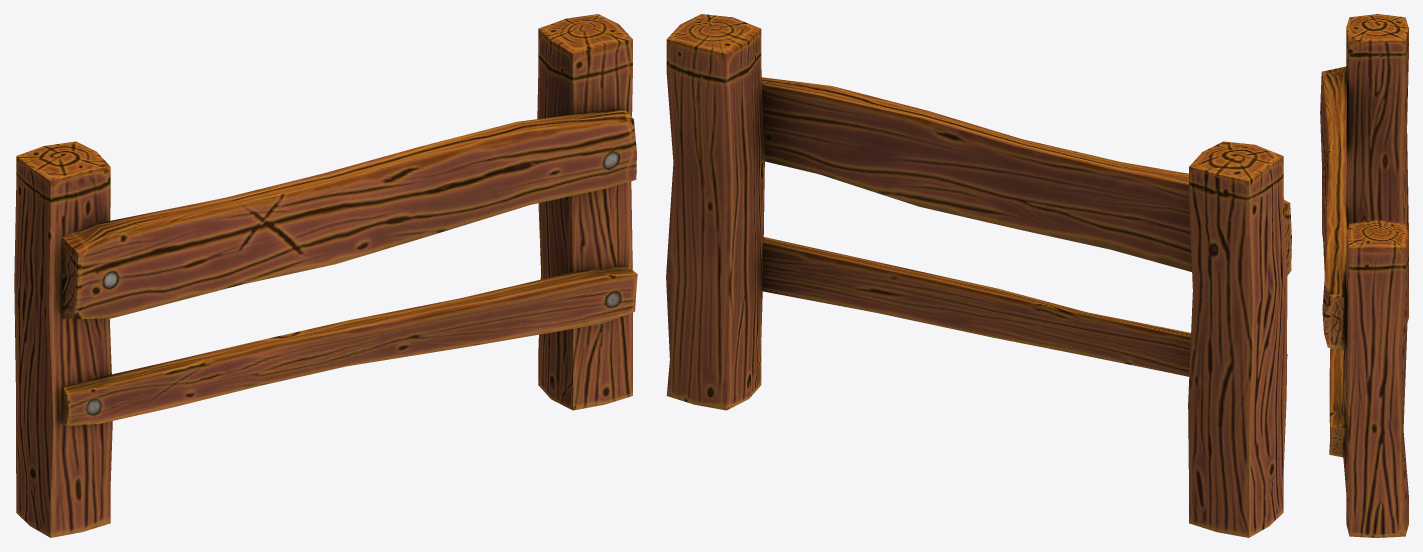
File: wooden_fence_01.fbx
3 views of the same model, side by side, from view 1: azimuth 30°, elevation 25°; view 2: azimuth 150°, elevation 25°; view 3: azimuth 270°, elevation 25° (orthographic). The views are drawn at different scales.
Parts seen in each view (by area): view 1: wooden_fence_01, pillar_01; view 2: wooden_fence_01, pillar_01; view 3: wooden_fence_01, pillar_01.
Boxes of the visible parts, box(x1,y1,x2,y2) form: wooden_fence_01: box(14, 108, 637, 537); pillar_01: box(537, 14, 632, 410); wooden_fence_01: box(762, 77, 1291, 537); pillar_01: box(666, 14, 764, 410); wooden_fence_01: box(1320, 14, 1408, 457); pillar_01: box(1341, 220, 1408, 537).
Bounding box in the file's own units: 1275 × 204 × 747.
